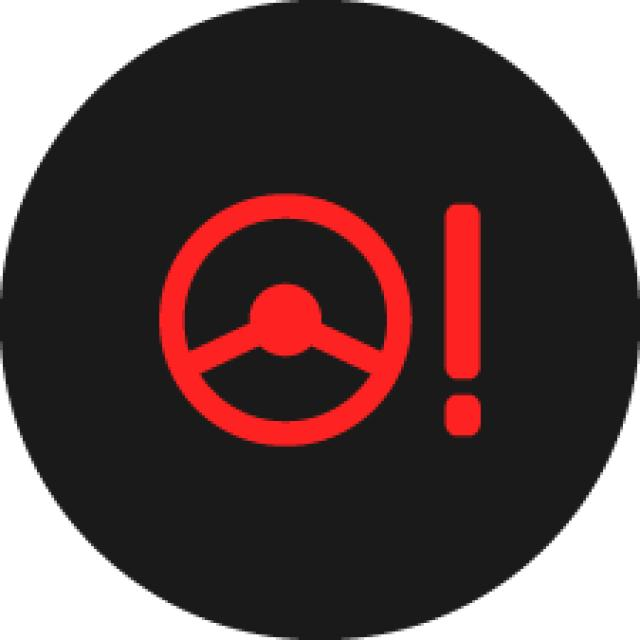kontrolka: (138, 175, 522, 458)
